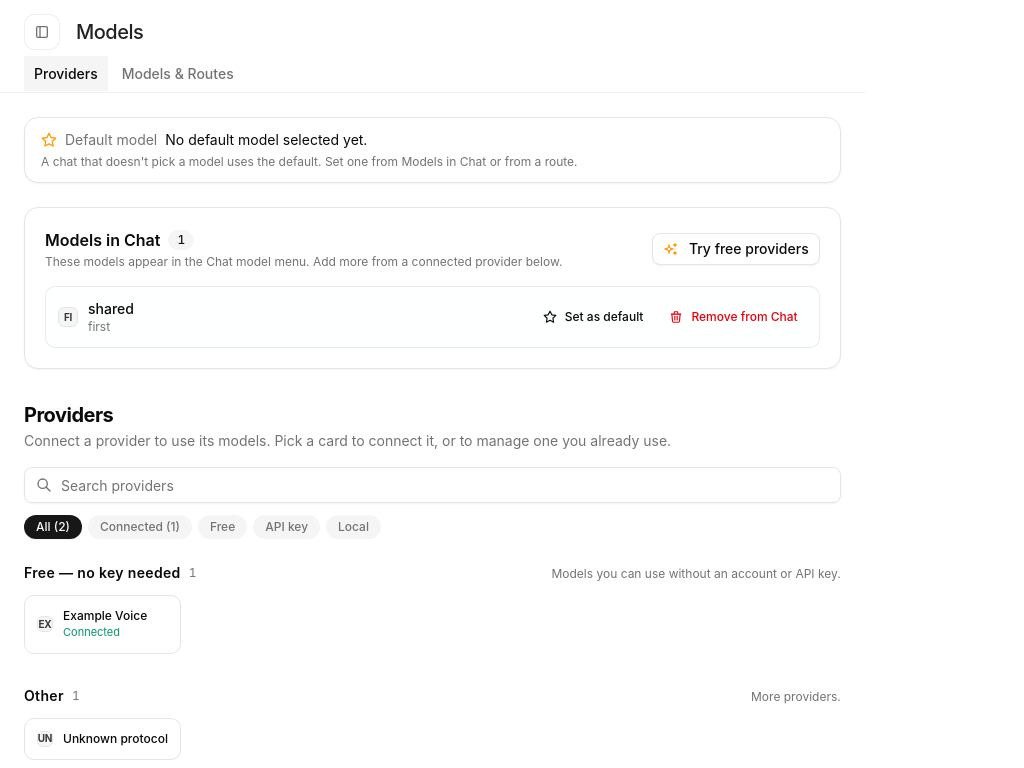
it: ModelsWorkspace › counts a speech provider's voices and points to the Voice page
Click the button with aria-label "Manage Example Voice".
click(102, 624)  # box 24,595 -> 181,654
(page scrolled)
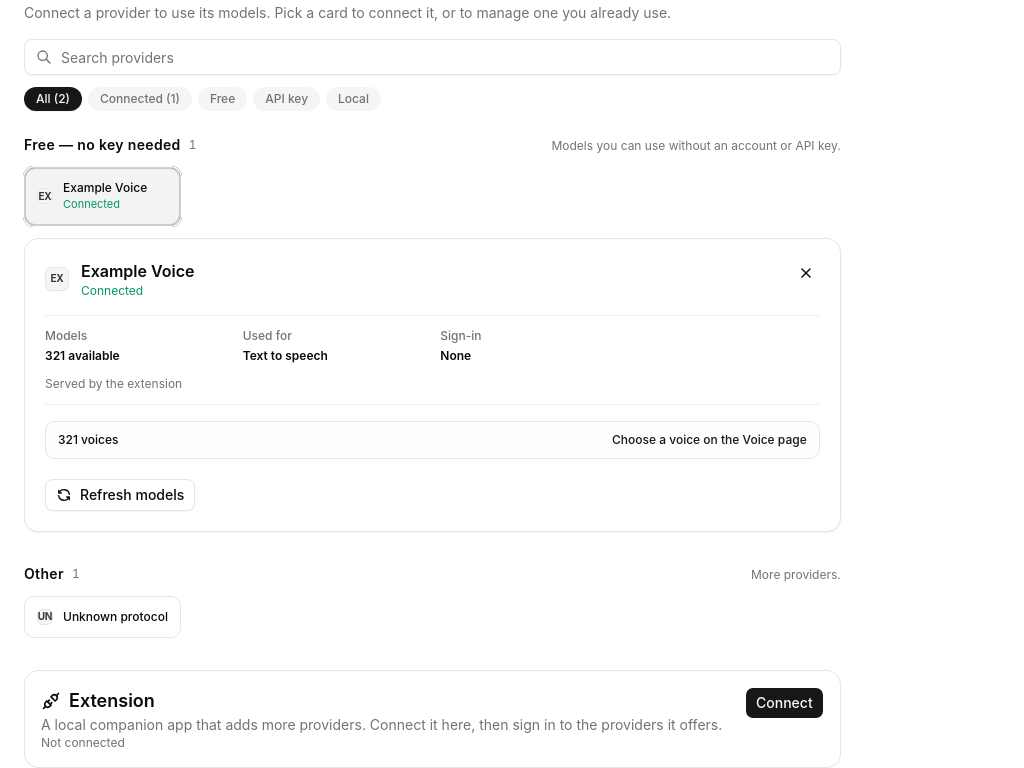
Expected: the element "Example Voice" does not show "demo_voice_0", 24,238 -> 841,532
Expected: the element "Example Voice" shows "321 voices", 58,432 -> 118,446
